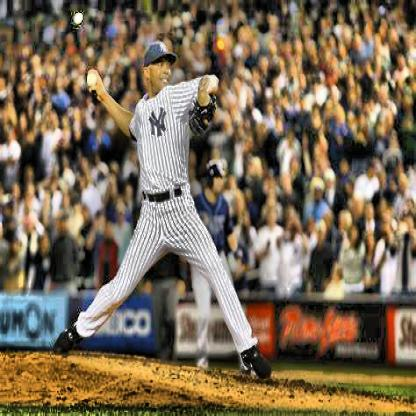baseball: (88, 68, 99, 90)
